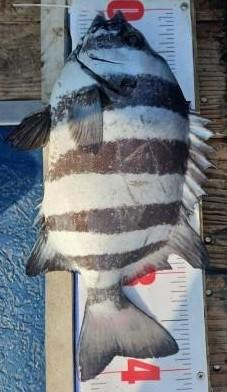fish: (6, 10, 213, 383)
